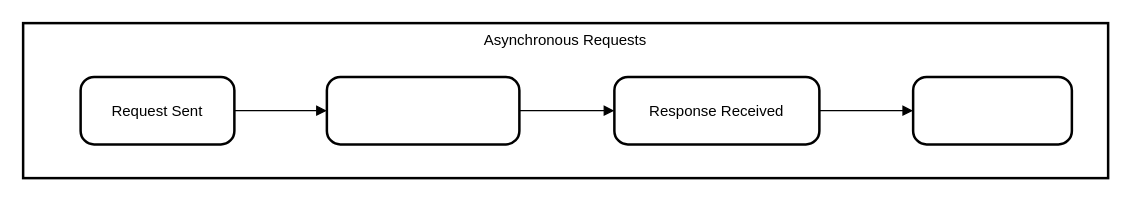
Image size: 1130x200. Some labels were removed from this diagram. Here are the shapes that lost their labels. From the top down, the box of each, then its label:
(325, 75, 520, 145): Server Processing
(911, 75, 1072, 145): Data Handled
